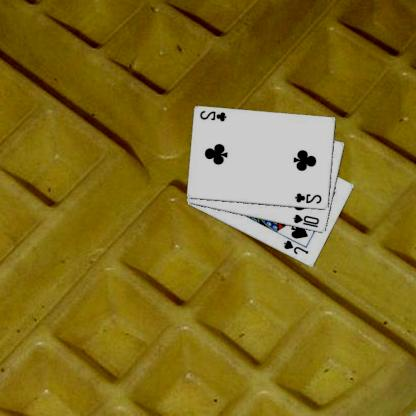10S: (292, 212, 322, 229)
2C: (294, 190, 325, 206), (200, 108, 230, 123)
JS: (282, 237, 312, 256)
